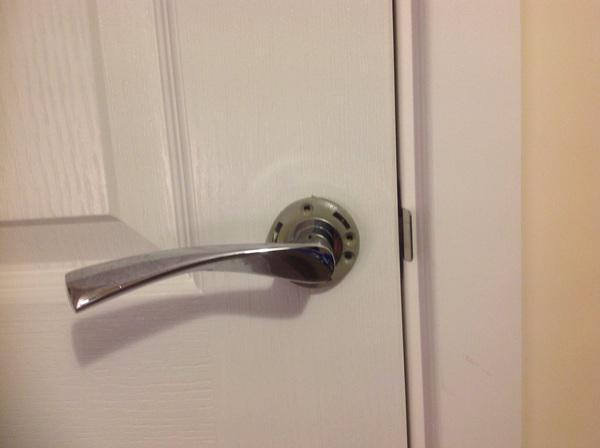doorhandle: (38, 207, 386, 339)
